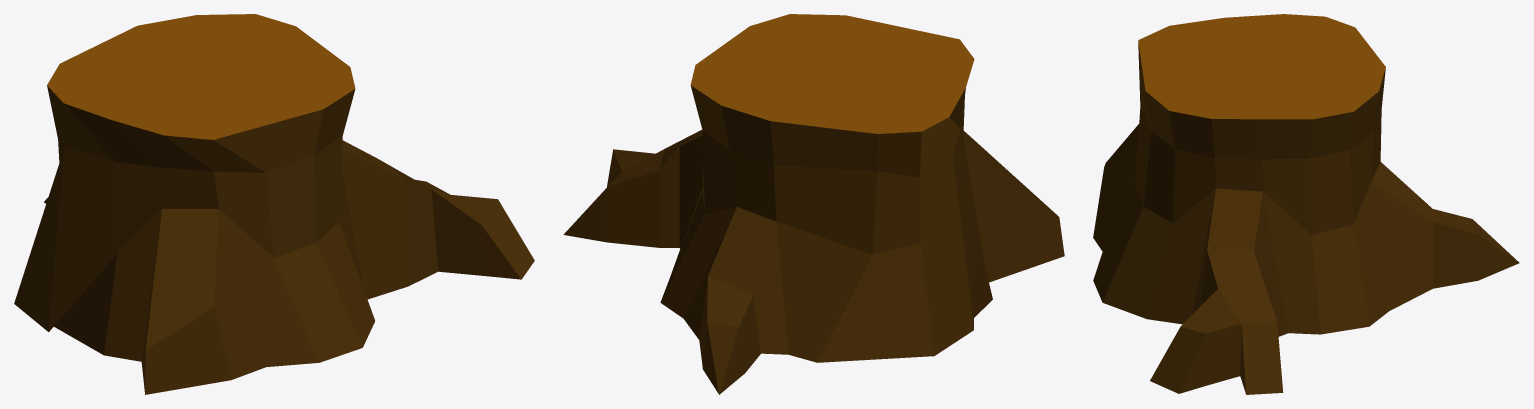
Rendered from troncoOscuroo.glb.
The picture shows the model from 3 angles, left to right: view 1: azimuth 30°, elevation 25°; view 2: azimuth 150°, elevation 25°; view 3: azimuth 270°, elevation 25°; orthographic projection. The views are drawn at different scales.
Parts seen in each view (by area): view 1: Cylinder; view 2: Cylinder; view 3: Cylinder.
Boxes of the visible parts, x1=… form: Cylinder: x1=14, y1=14, x2=534, y2=394; Cylinder: x1=563, y1=14, x2=1064, y2=394; Cylinder: x1=1093, y1=14, x2=1519, y2=394.
Bounding box in the file's own units: 4.03 × 2 × 3.77.
